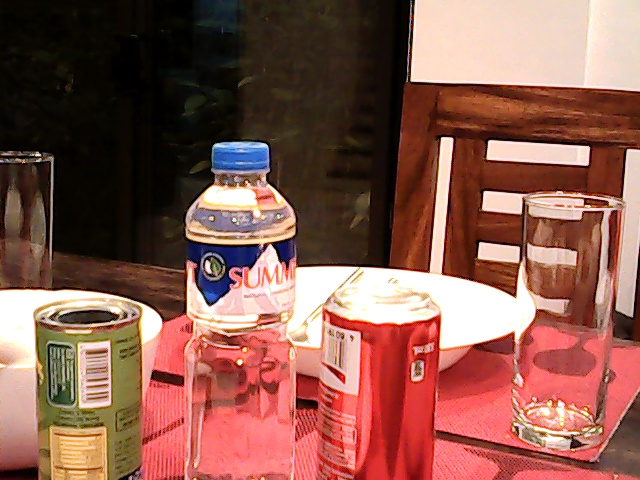Cola: (311, 281, 451, 480)
Pine Juice: (19, 292, 151, 480)
Summit Water: (171, 127, 300, 480)
